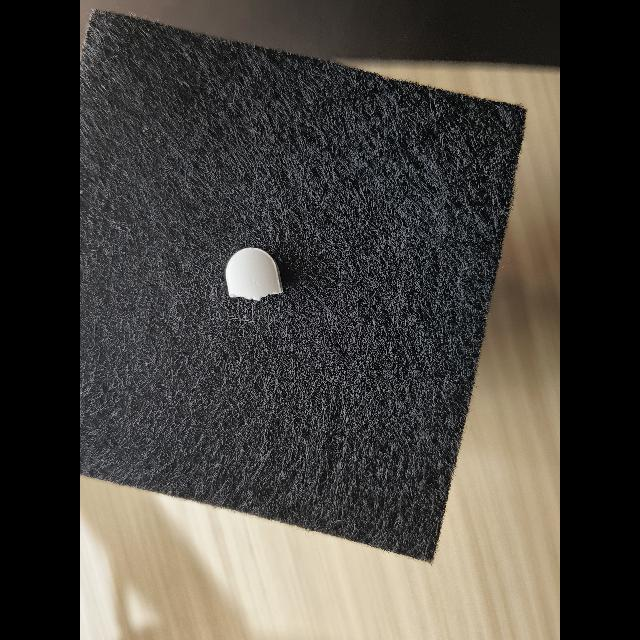Chipped Pill: (226, 247, 283, 301)
